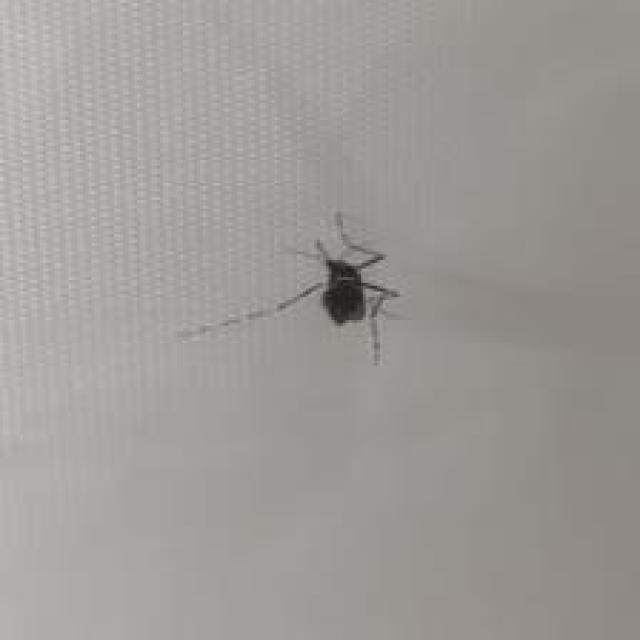Aedes albopictus: (176, 210, 401, 367)
